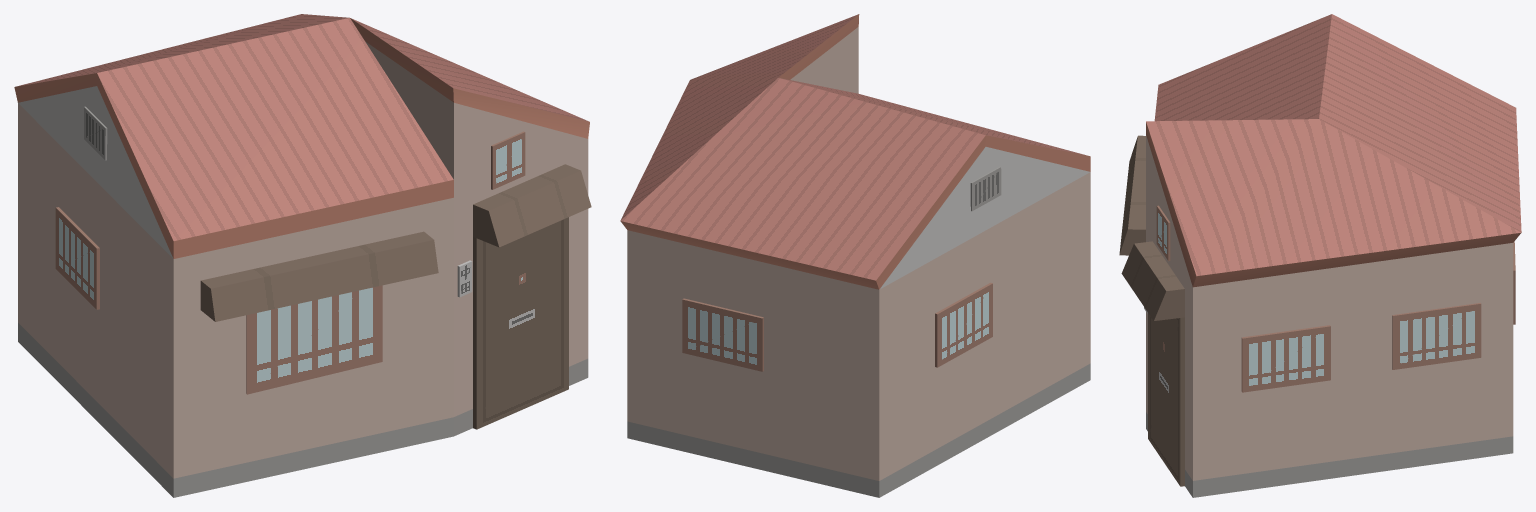
File: 00f7_Nakata_Residence.glb
The picture shows the model from 3 angles, left to right: view 1: azimuth 30°, elevation 25°; view 2: azimuth 150°, elevation 25°; view 3: azimuth 270°, elevation 25°; orthographic projection. The views are drawn at different scales.
Parts seen in each view (by area): view 1: part_0; view 2: part_0; view 3: part_0.
Part boxes in pixels (bbox=[...]): part_0: bbox=[14, 14, 591, 497]; part_0: bbox=[620, 14, 1090, 497]; part_0: bbox=[1119, 14, 1521, 497].
Size of the model in its own units: 4.8 by 3.64 by 4.32.
Materials: 1 (1 with a texture image).
